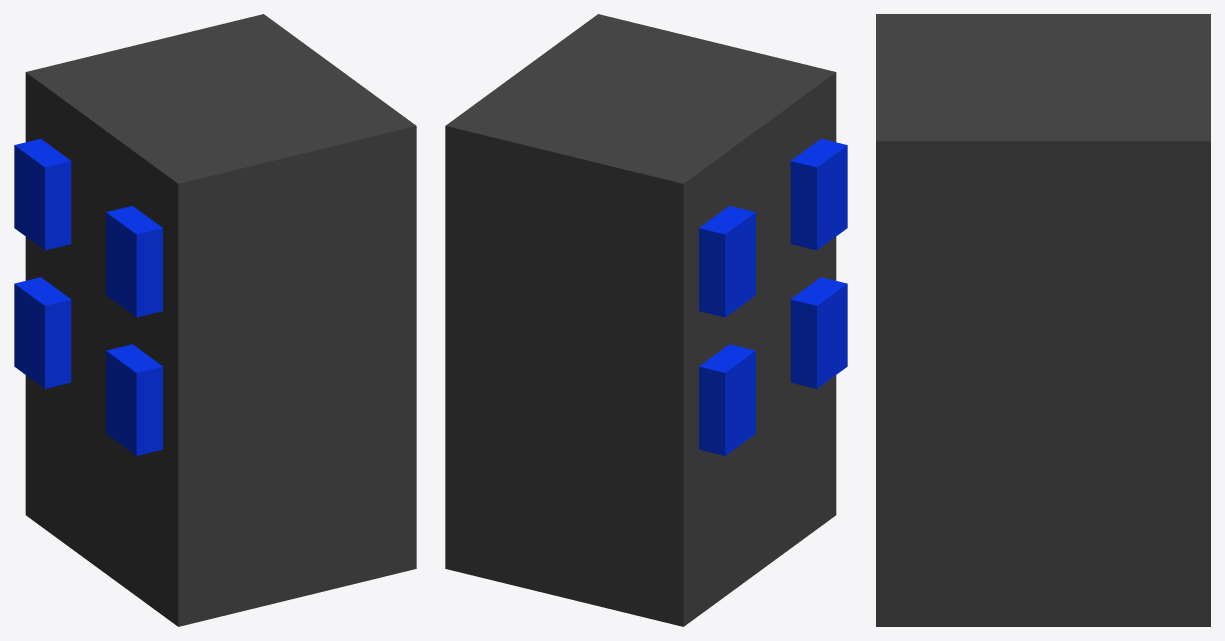
3 views of the same model, side by side, from view 1: azimuth 30°, elevation 25°; view 2: azimuth 150°, elevation 25°; view 3: azimuth 270°, elevation 25° (orthographic). The views are drawn at different scales.
Visible parts, largest first — view 1: Untitled; view 2: Untitled; view 3: Untitled.
Boxes of the visible parts, x1=… form: Untitled: x1=14, y1=14, x2=416, y2=626; Untitled: x1=445, y1=14, x2=847, y2=626; Untitled: x1=876, y1=14, x2=1210, y2=626.
Bounding box in the file's own units: 1 × 1.6 × 1.
Materials: 1 (1 with a texture image).
